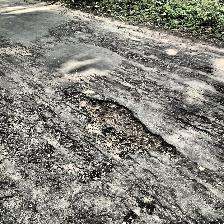pothole: (67, 90, 180, 162)
